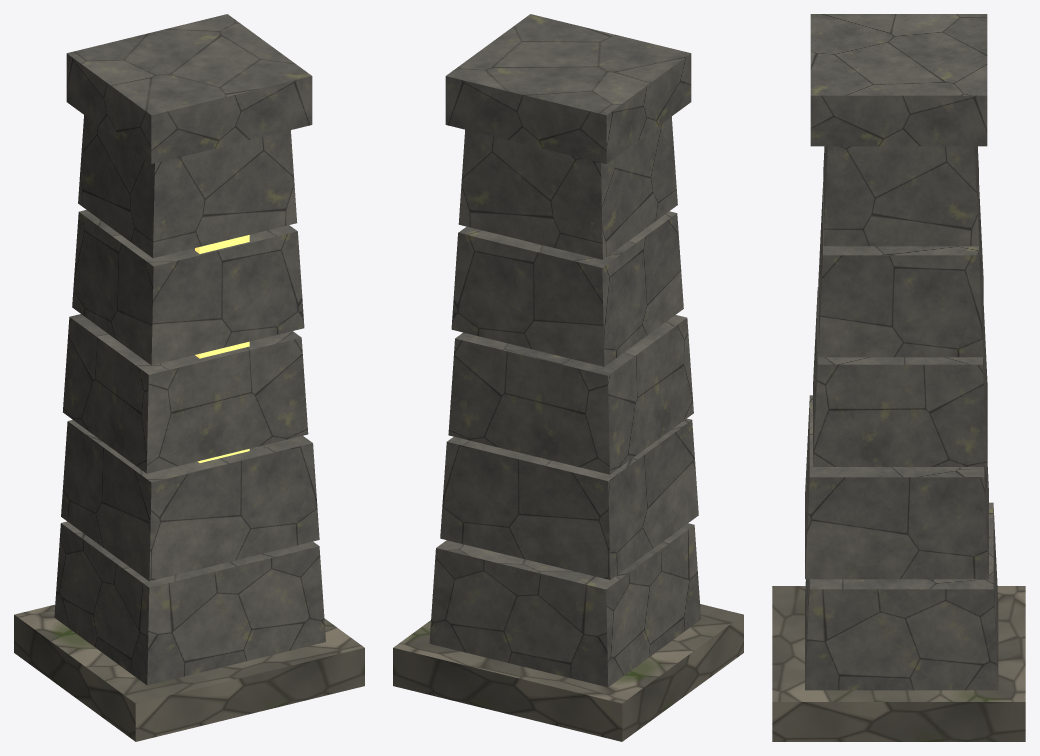
The model's file is SealPillar.fbx.
3 renders of one model, left to right at view 1: azimuth 30°, elevation 25°; view 2: azimuth 150°, elevation 25°; view 3: azimuth 270°, elevation 25°, orthographic. The views are drawn at different scales.
Parts seen in each view (by area): view 1: SealPillar; view 2: SealPillar; view 3: SealPillar.
Part boxes in pixels (x1=…): SealPillar: x1=14, y1=14, x2=364, y2=741; SealPillar: x1=393, y1=14, x2=743, y2=741; SealPillar: x1=772, y1=14, x2=1025, y2=741.
Size of the model in its own units: 1.38 by 3.47 by 1.26.
